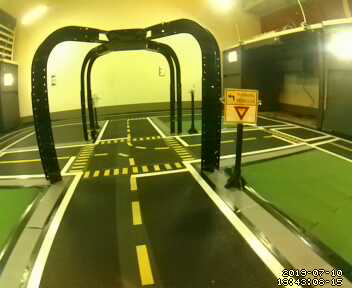Turn Yield: (225, 87, 259, 125)
